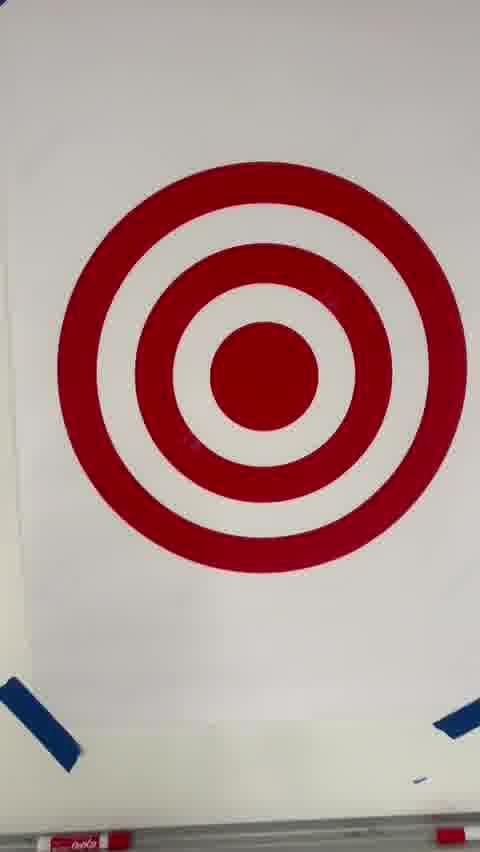target_red: (56, 160, 470, 574)
